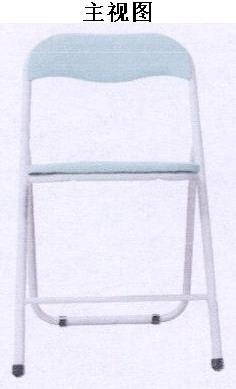obstacle: (13, 33, 222, 376)
